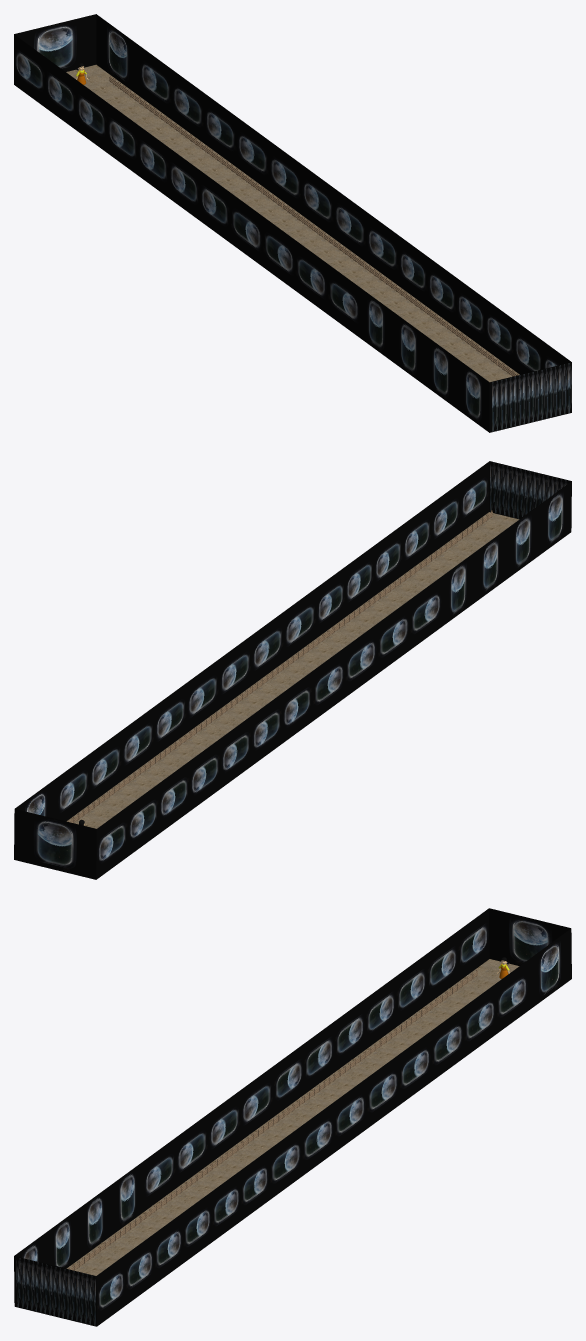
Rendered from WorldSquidGames1.glb.
3 views of the same model, one above another, from view 1: azimuth 30°, elevation 25°; view 2: azimuth 150°, elevation 25°; view 3: azimuth 330°, elevation 25° (orthographic).
Parts seen in each view (by area): view 1: Walls, Floor, WoodenFence; view 2: Walls, Floor, WoodenFence; view 3: Walls, Floor, WoodenFence.
Part boxes in pixels (<box>): Walls: <box>14,14,571,432</box>; Floor: <box>66,64,519,382</box>; WoodenFence: <box>109,75,519,376</box>; Walls: <box>14,461,571,879</box>; Floor: <box>67,512,519,828</box>; WoodenFence: <box>67,510,492,823</box>; Walls: <box>14,908,571,1326</box>; Floor: <box>66,959,519,1275</box>; WoodenFence: <box>68,969,477,1270</box>.
Bounding box in the file's own units: 10.03 × 5.91 × 100.
12 materials, 3 textured.
